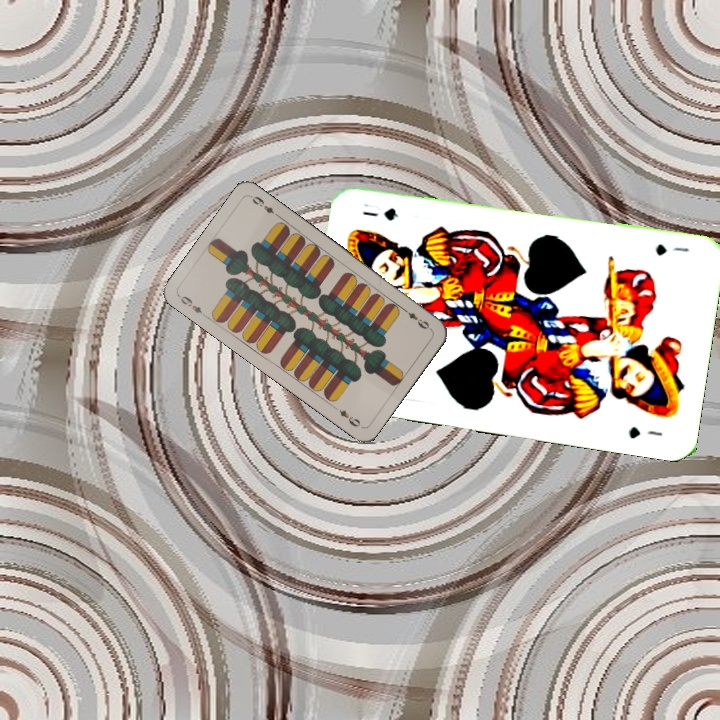E9: (175, 291, 210, 320), (399, 304, 432, 332)
GU: (651, 239, 692, 258)
